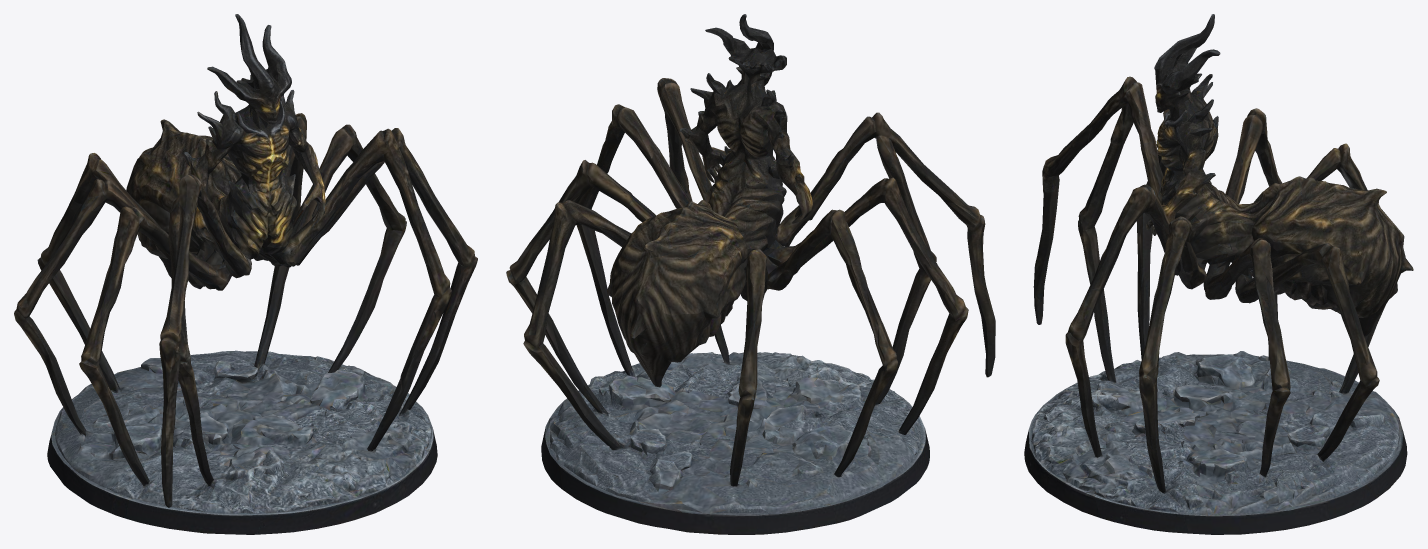
File: akkeron.glb
3 renders of one model, left to right at view 1: azimuth 30°, elevation 25°; view 2: azimuth 150°, elevation 25°; view 3: azimuth 270°, elevation 25°, orthographic.
Parts seen in each view (by area): view 1: output_unwrapped; view 2: output_unwrapped; view 3: output_unwrapped.
Boxes of the visible parts, x1,y1,x2,y2 form: output_unwrapped: [14, 14, 477, 534]; output_unwrapped: [506, 14, 995, 534]; output_unwrapped: [1024, 14, 1413, 534].
Size of the model in its own units: 1.78 by 1.9 by 1.54.
Materials: 1 (1 with a texture image).
